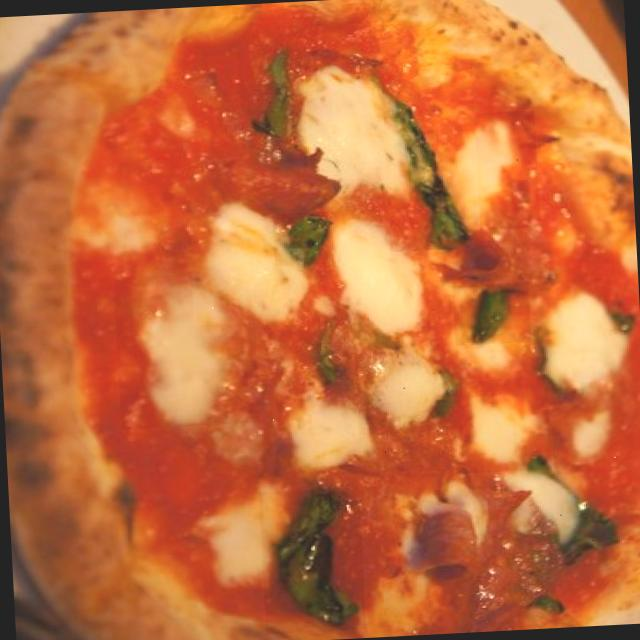basil: (381, 64, 481, 251), (258, 486, 366, 632), (238, 48, 308, 170), (542, 474, 616, 568), (452, 281, 532, 345), (272, 210, 341, 265), (298, 326, 354, 393)
cheese: (114, 270, 260, 428), (295, 64, 437, 207), (314, 206, 452, 351), (188, 202, 326, 324), (538, 275, 640, 405), (432, 110, 540, 232), (354, 336, 458, 434), (272, 384, 388, 468), (451, 376, 552, 472), (550, 397, 630, 463)
pizza: (0, 0, 640, 640)
